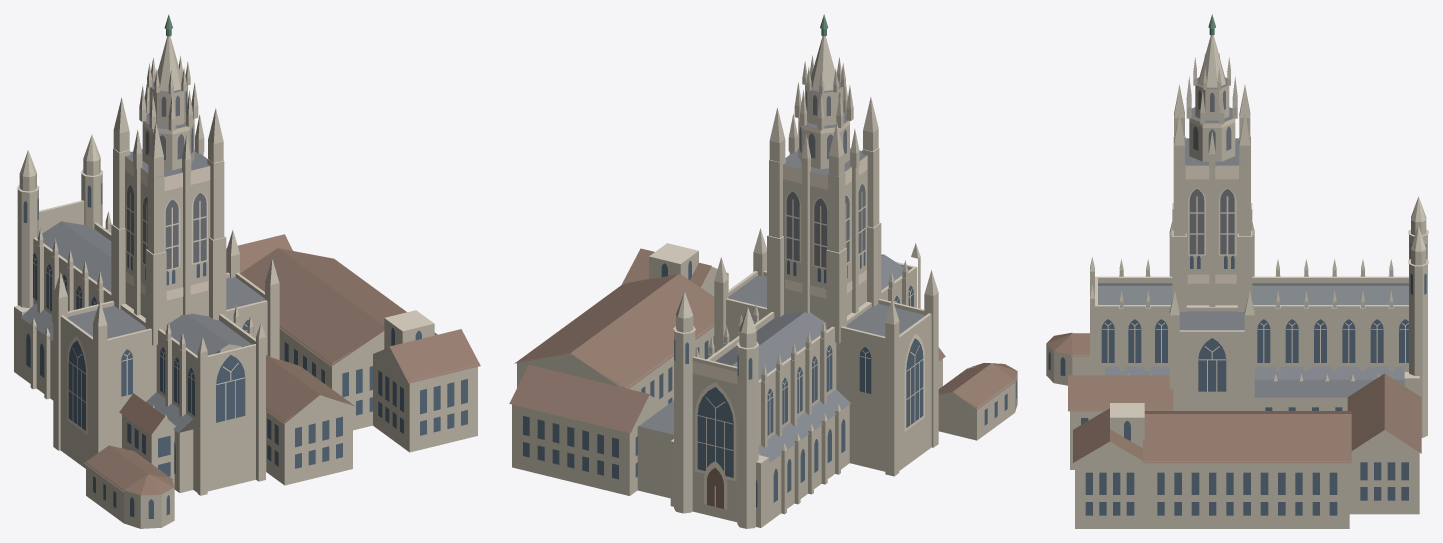
The model's file is pit-east-liberty-presbyterian.glb.
The picture shows the model from 3 angles, left to right: view 1: azimuth 30°, elevation 25°; view 2: azimuth 150°, elevation 25°; view 3: azimuth 270°, elevation 25°; orthographic projection. The views are drawn at different scales.
Parts seen in each view (by area): view 1: East Liberty Presbyterian Church; view 2: East Liberty Presbyterian Church; view 3: East Liberty Presbyterian Church.
Part boxes in pixels (x1,y1,x2,y2): East Liberty Presbyterian Church: (14,14,480,528); East Liberty Presbyterian Church: (509,14,1017,528); East Liberty Presbyterian Church: (1046,14,1428,528).
Size of the model in its own units: 78.7 by 89.5 by 76.6.
